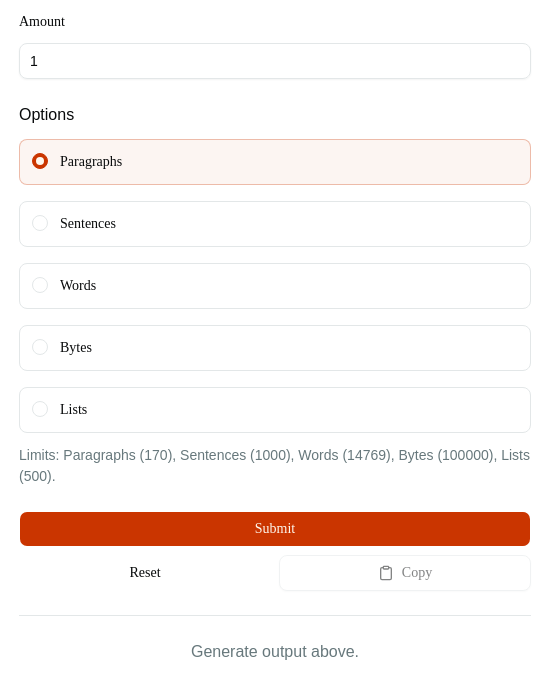
Scenario: LoremIpsum › resets form when reset button clicked
Replace the text in the number field labelled "Amount" with "10" at (275, 61), box [19,43,531,79]
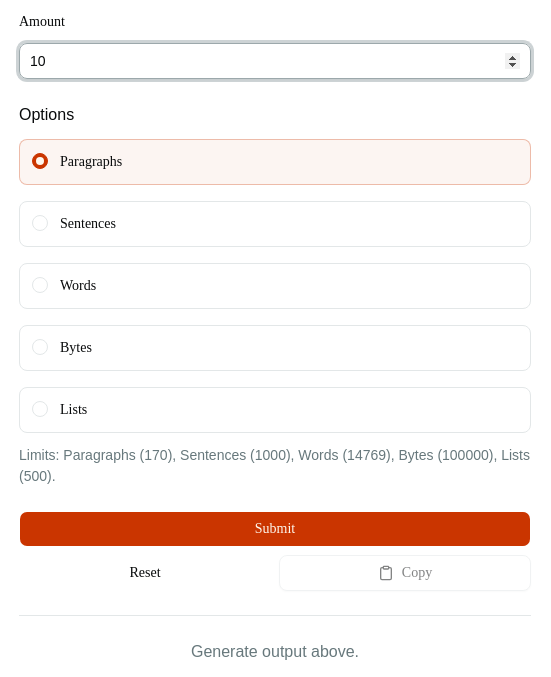
Click the button "Reset" at (145, 573), box [19,555,271,591]
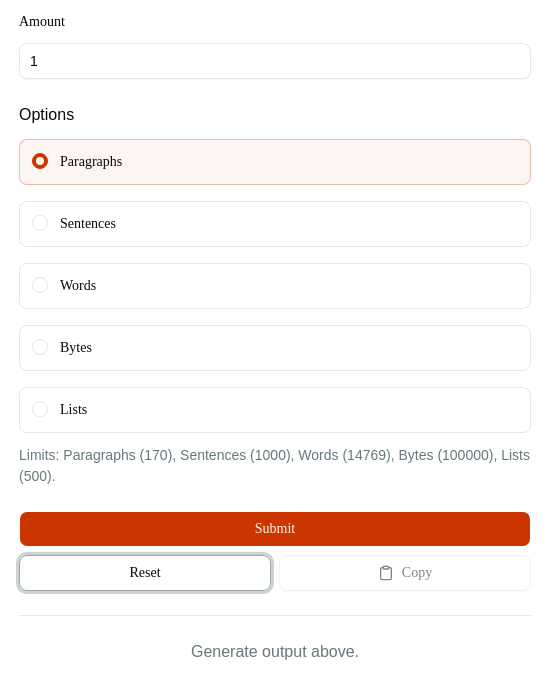
Expected: the number field labelled "Amount" holds "1", [19,43,531,79]
